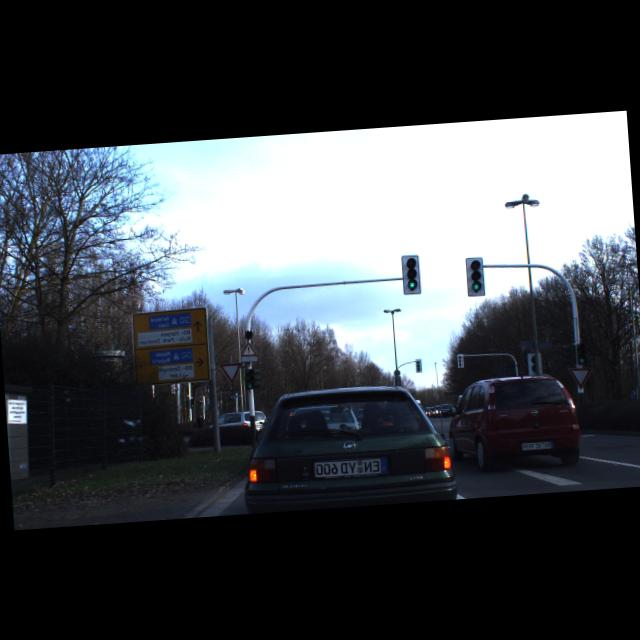danger: (240, 340, 258, 356)
other: (568, 366, 593, 390), (219, 362, 244, 385)
